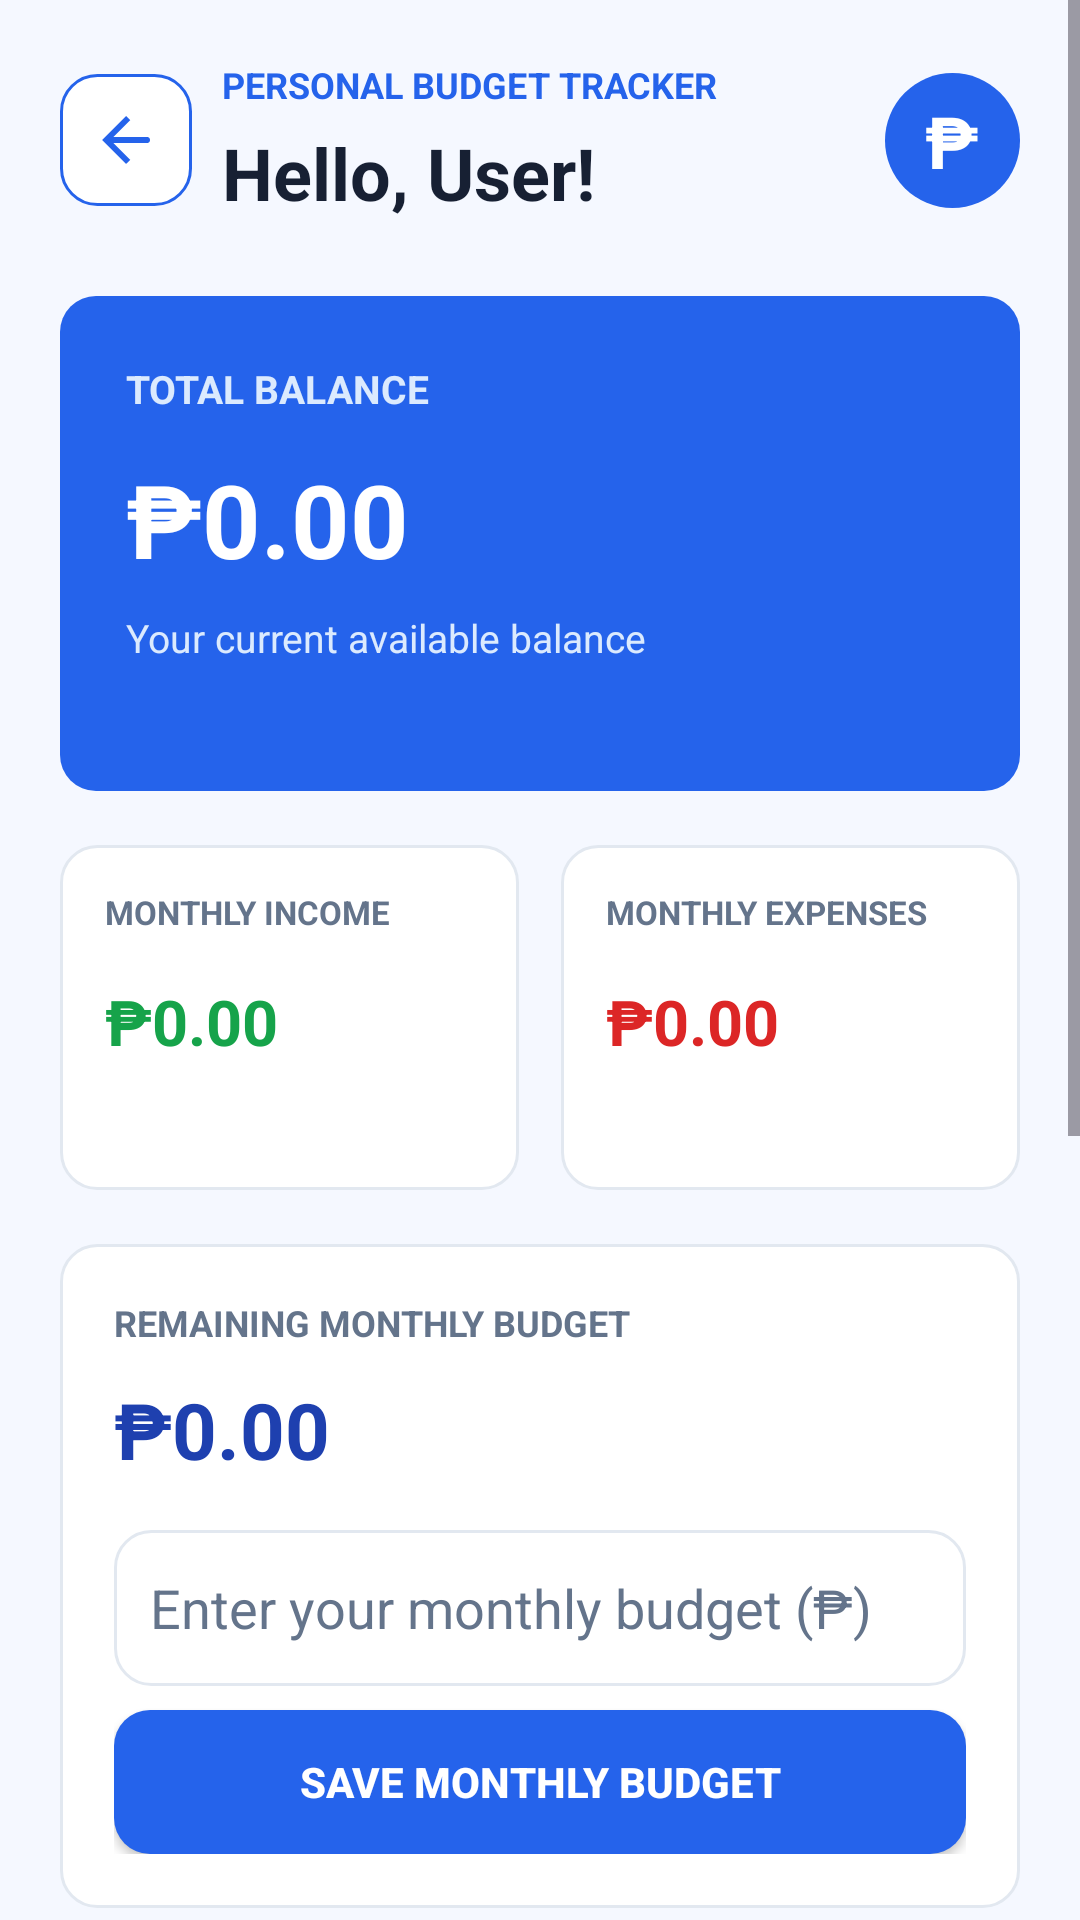

Point at icon controls on the screen. Image size 1080px×1920px, points as [x,y].
Back: [126,140]
